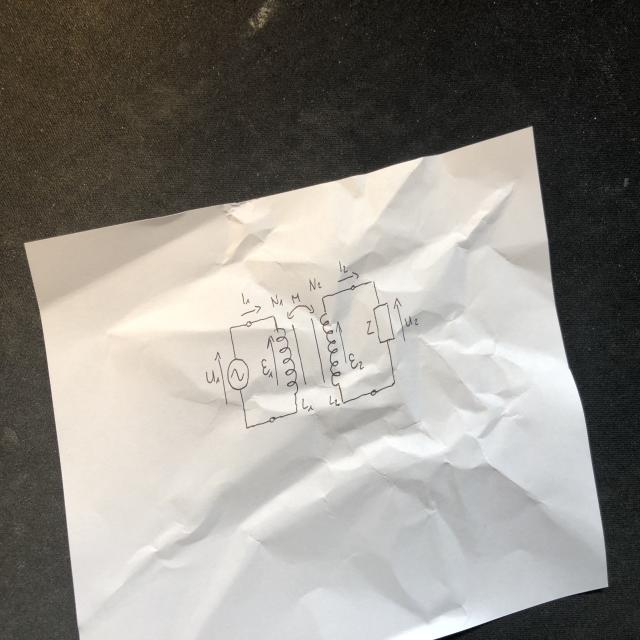junction: (370, 278, 375, 286), (270, 312, 276, 318), (320, 294, 325, 301), (392, 379, 397, 385), (341, 398, 345, 405), (228, 326, 232, 332), (245, 425, 249, 430), (295, 409, 298, 414)
resistor: (372, 300, 396, 344)
source: (227, 358, 250, 390)
text: (348, 352, 364, 370), (261, 358, 274, 379), (204, 369, 220, 385), (300, 397, 314, 412), (270, 294, 284, 308), (309, 278, 322, 292), (404, 315, 418, 327), (338, 259, 348, 275), (328, 394, 340, 406), (240, 290, 250, 304), (366, 320, 374, 336), (291, 292, 300, 304)
transformer: (274, 312, 342, 392)
